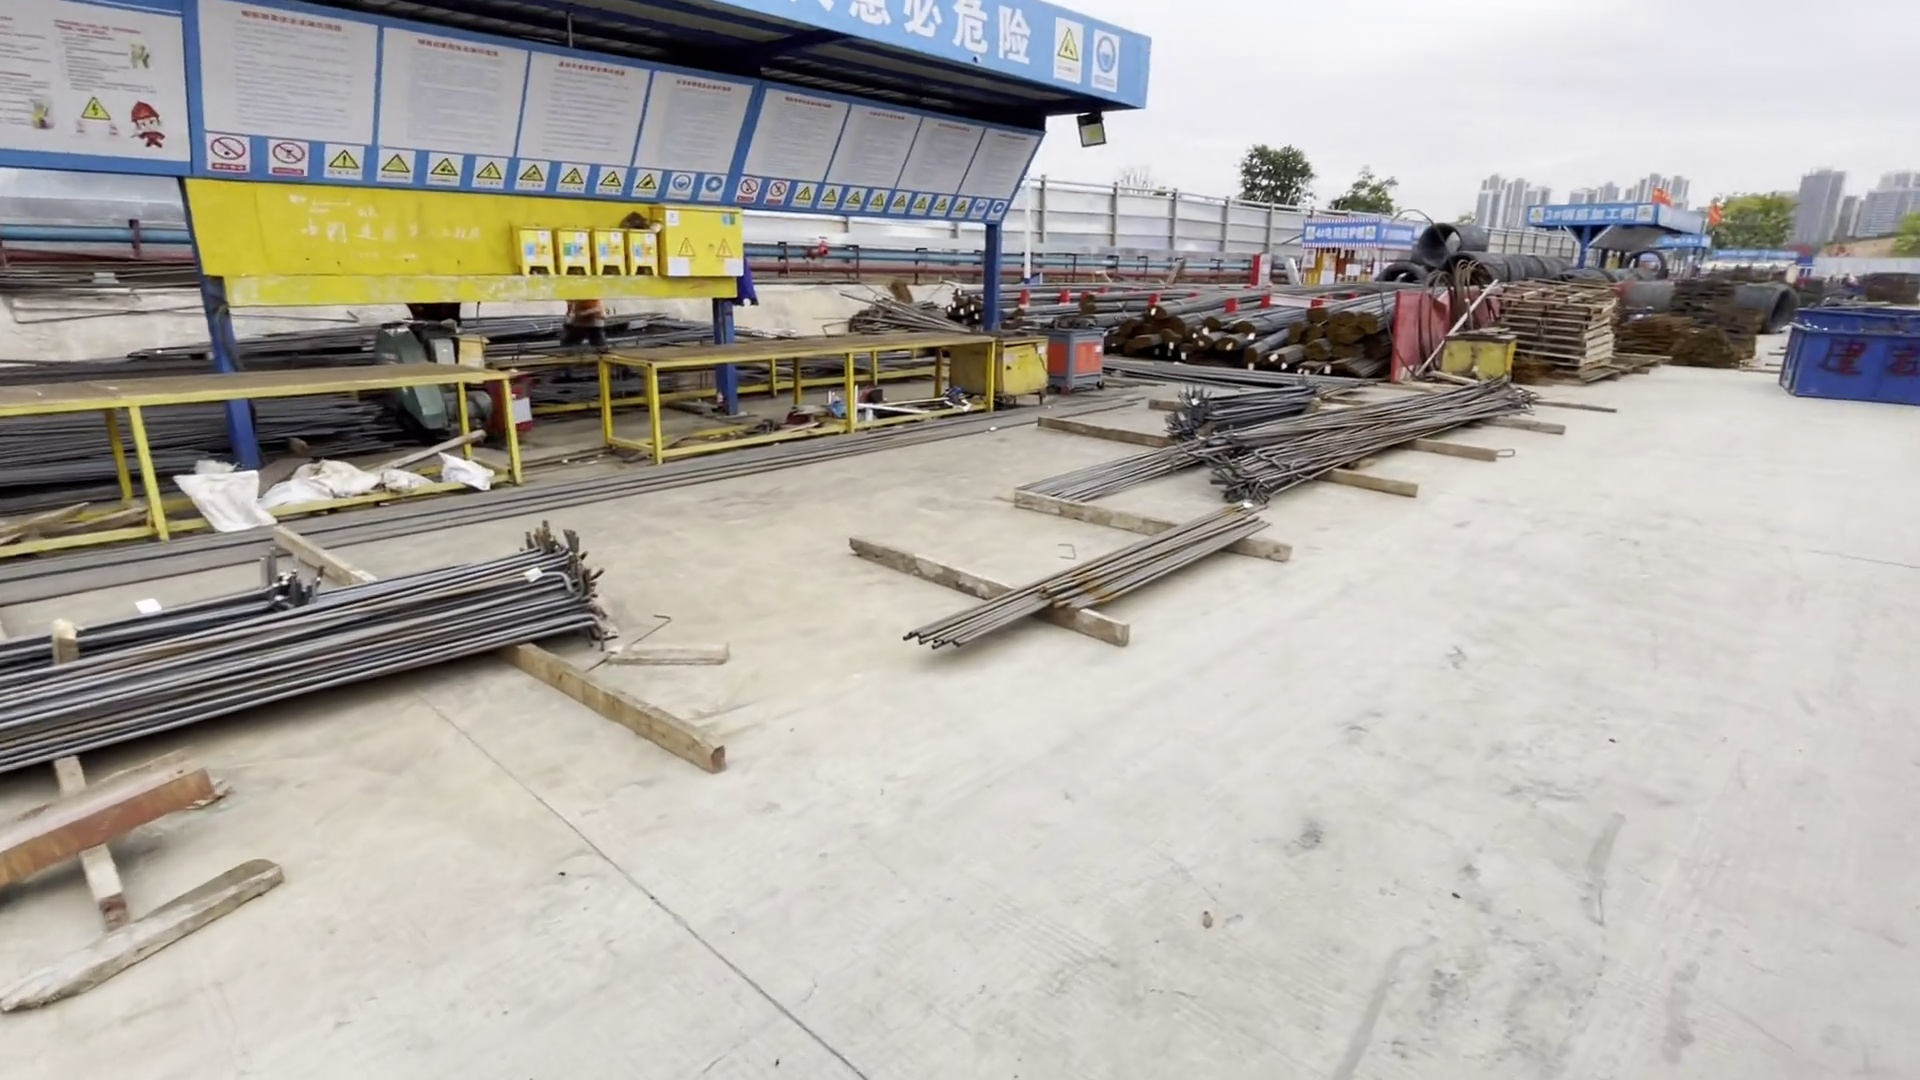ebox: (506, 202, 752, 291)
hopper: (1778, 307, 1920, 397)
rebar: (858, 365, 1535, 650), (1, 517, 600, 764), (942, 285, 1396, 364)
slogan: (1, 1, 1139, 216)
